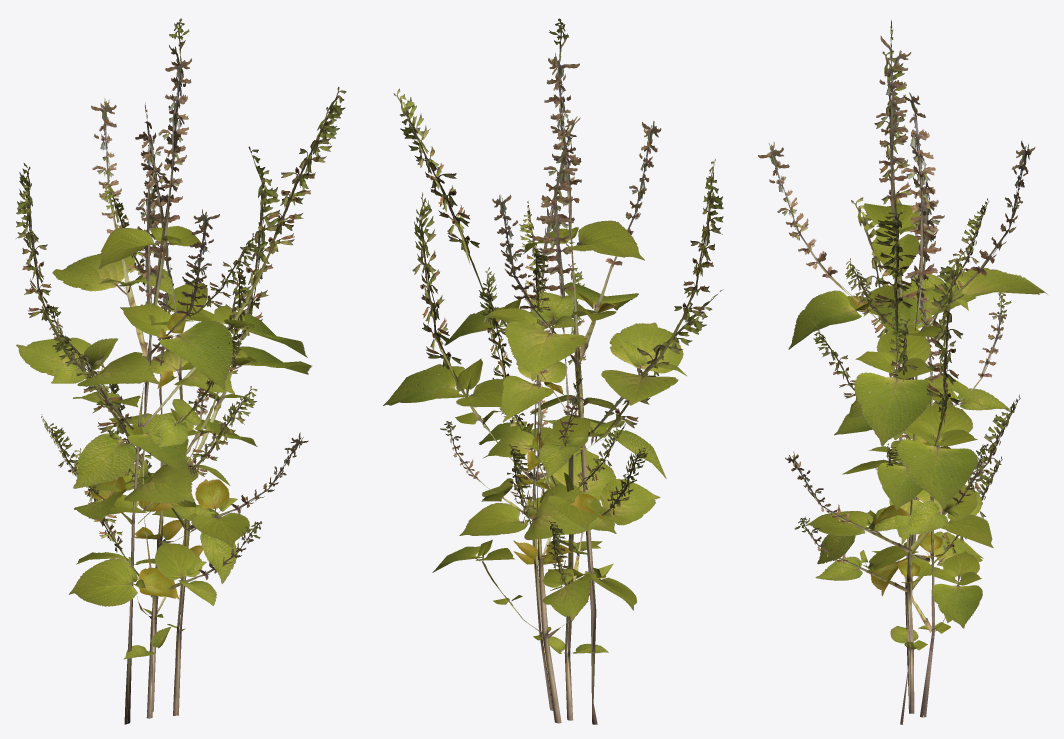
File: crop-bush.glb
3 renders of one model, left to right at view 1: azimuth 30°, elevation 25°; view 2: azimuth 150°, elevation 25°; view 3: azimuth 270°, elevation 25°, orthographic. The views are drawn at different scales.
Parts seen in each view (by area): view 1: plant_0, plant_1, plant_2, plant_3; view 2: plant_0, plant_1, plant_2, plant_3; view 3: plant_0, plant_1, plant_2, plant_3.
Part boxes in pixels (x1=…): plant_0: x1=16, y1=18, x2=346, y2=724; plant_1: x1=47, y1=102, x2=311, y2=715; plant_2: x1=46, y1=176, x2=262, y2=718; plant_3: x1=69, y1=265, x2=237, y2=712; plant_0: x1=393, y1=18, x2=723, y2=724; plant_1: x1=383, y1=116, x2=723, y2=710; plant_2: x1=478, y1=199, x2=616, y2=720; plant_3: x1=432, y1=277, x2=636, y2=723; plant_0: x1=758, y1=20, x2=1047, y2=695; plant_1: x1=785, y1=92, x2=1020, y2=724; plant_2: x1=794, y1=181, x2=1011, y2=713; plant_3: x1=817, y1=276, x2=988, y2=717.
Size of the model in its own units: 0.2006 by 0.4028 by 0.1512.
1 material, 1 textured.
